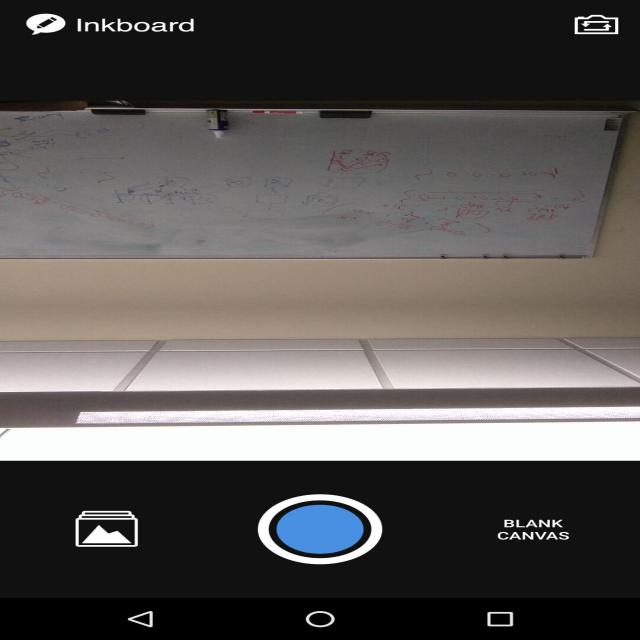icon: (252, 494, 386, 568), (60, 500, 155, 559), (12, 3, 72, 47), (558, 10, 640, 37)
image: (0, 101, 640, 462)
text: (486, 507, 604, 549), (66, 10, 234, 37)
